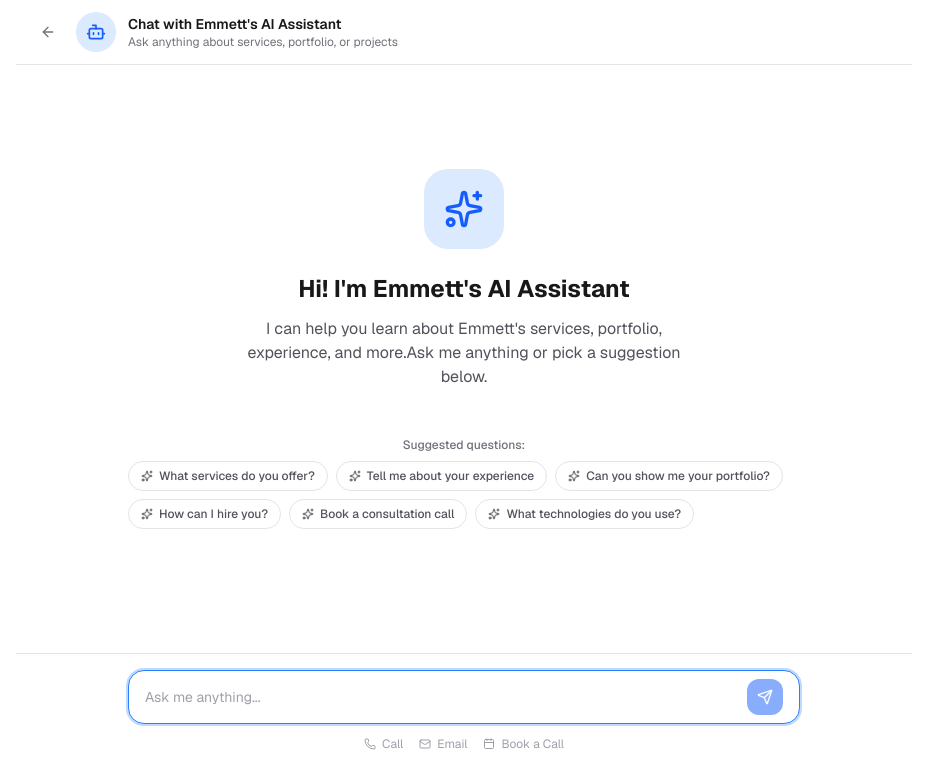
Test: FullPageChat › handles error response from API
Step 1. Type "hello" into the field with placeholder "Ask me anything..." → [442, 697], box [145,679,739,715]
Then press Enter
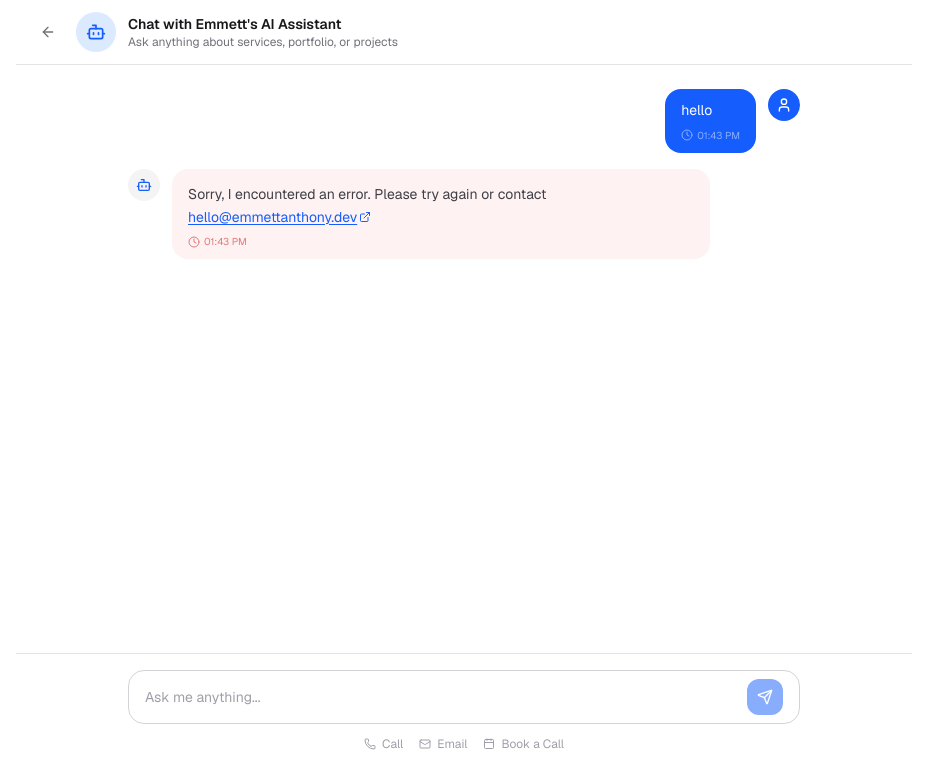
Expected: the text "Sorry, I encountered an error" is shown, [188,185,546,203]
